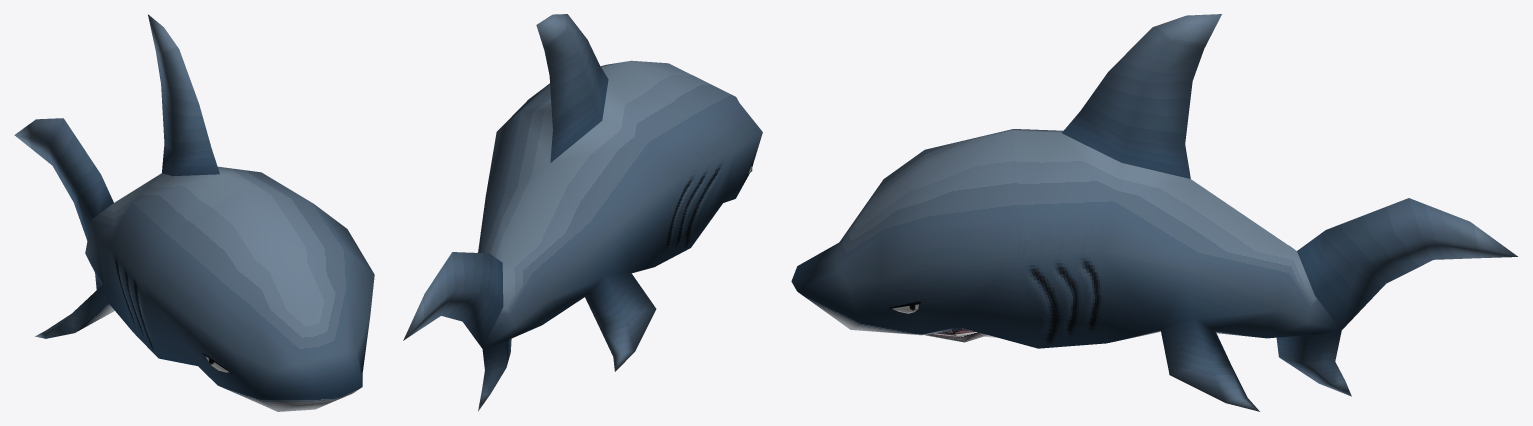
File: mdl.obj
The picture shows the model from 3 angles, left to right: view 1: azimuth 30°, elevation 25°; view 2: azimuth 150°, elevation 25°; view 3: azimuth 270°, elevation 25°; orthographic projection. The views are drawn at different scales.
Parts seen in each view (by area): view 1: mdl; view 2: mdl; view 3: mdl.
Boxes of the visible parts, x1,y1,x2,y2 form: mdl: (14, 14, 374, 411); mdl: (403, 14, 762, 411); mdl: (791, 14, 1517, 411).
Size of the model in its own units: 38.59 by 61.24 by 105.
Materials: 1 (1 with a texture image).
